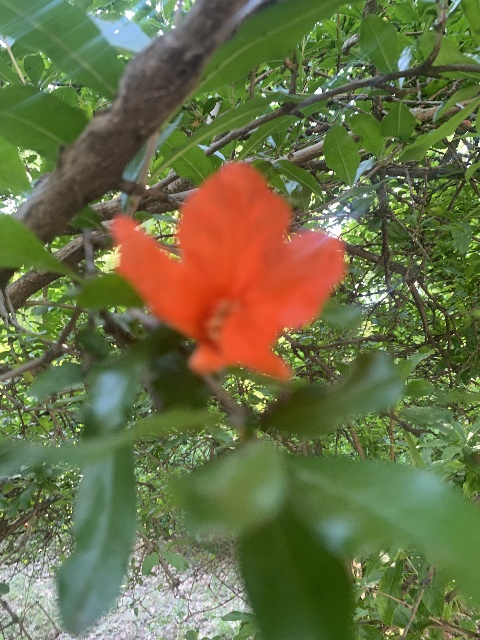flower: (108, 163, 349, 384)
